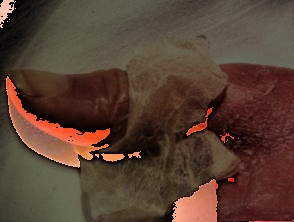SJS-TEN: (0, 24, 294, 222)
